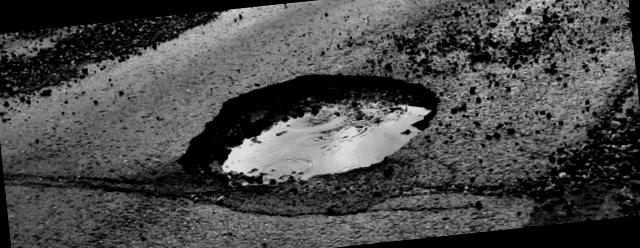Pothole: (177, 38, 486, 204)
